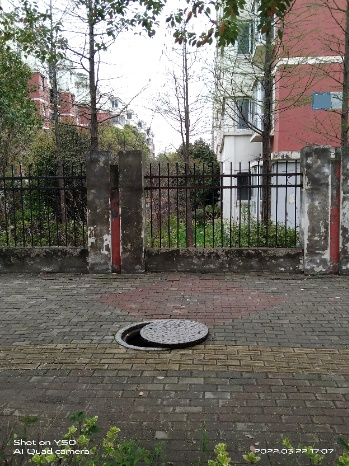well: (114, 317, 211, 352)
